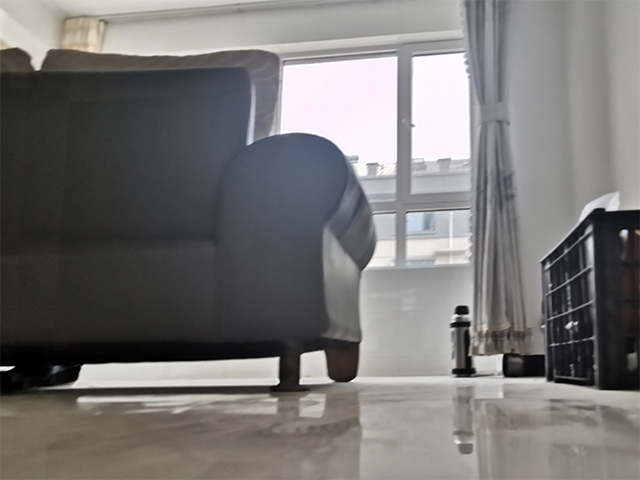curtain: (459, 1, 534, 357)
sofa: (1, 48, 378, 394)
